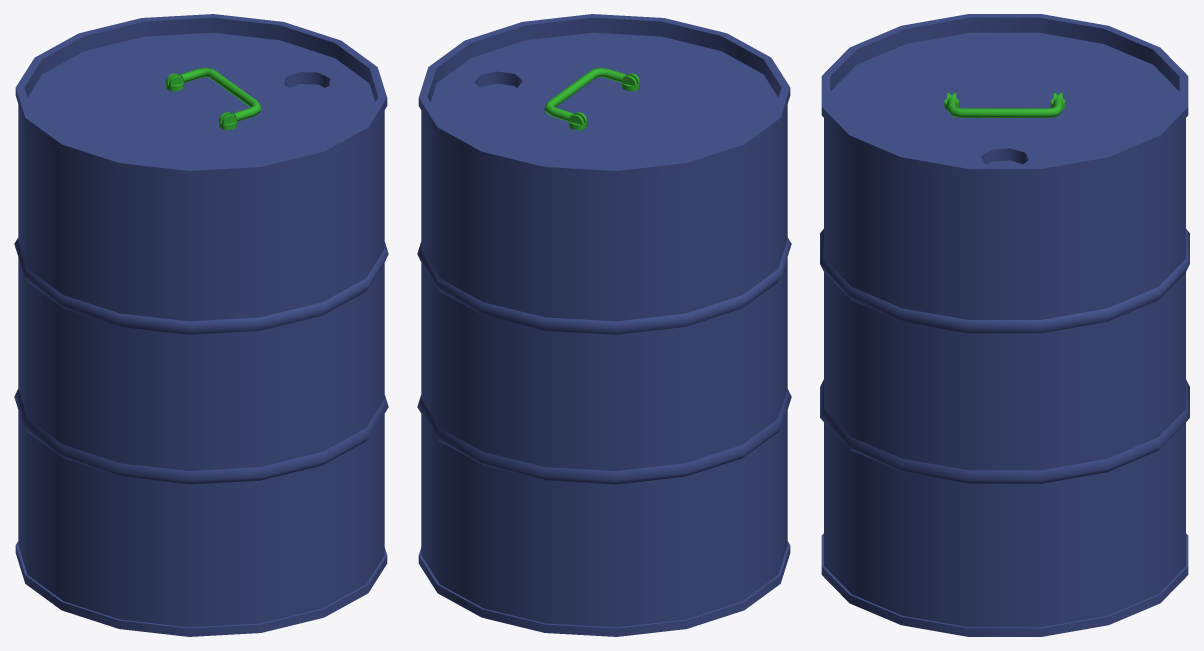
The model's file is Oildrum_Model.fbx.
The picture shows the model from 3 angles, left to right: view 1: azimuth 30°, elevation 25°; view 2: azimuth 150°, elevation 25°; view 3: azimuth 270°, elevation 25°; orthographic projection.
Visible parts, largest first — view 1: Oildrum_Mesh; view 2: Oildrum_Mesh; view 3: Oildrum_Mesh.
Part boxes in pixels (left/top/right/bottom): Oildrum_Mesh: left=14, top=14, right=388, bottom=636; Oildrum_Mesh: left=417, top=14, right=791, bottom=636; Oildrum_Mesh: left=820, top=14, right=1189, bottom=636.
Size of the model in its own units: 75.17 by 105 by 75.17.
